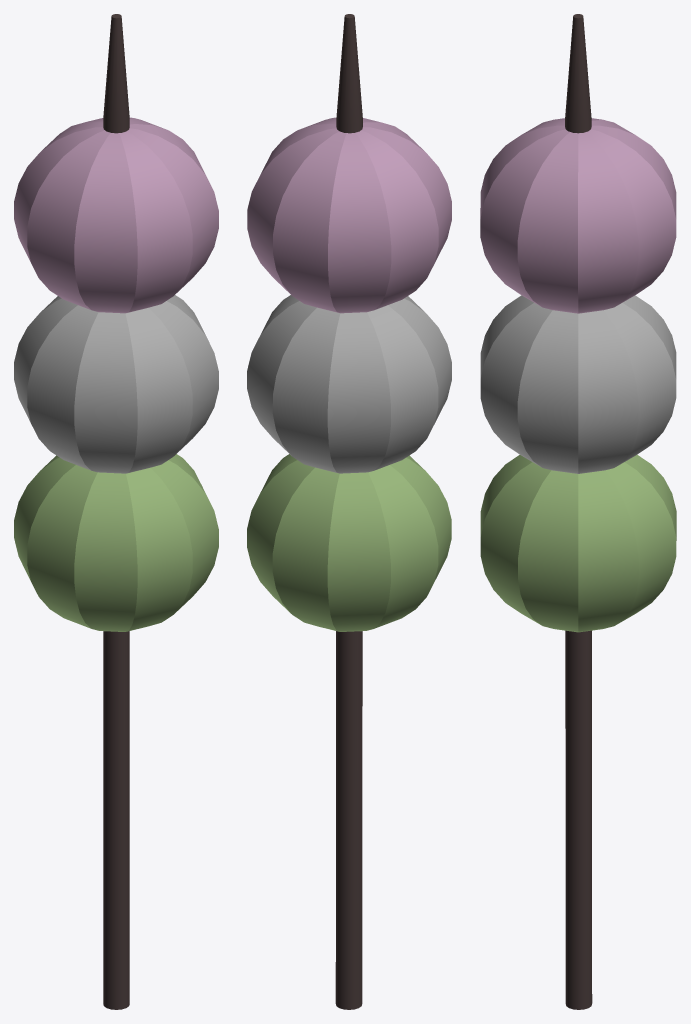
File: dangogo.fbx
The picture shows the model from 3 angles, left to right: view 1: azimuth 30°, elevation 25°; view 2: azimuth 150°, elevation 25°; view 3: azimuth 270°, elevation 25°; orthographic projection.
Parts seen in each view (by area): view 1: pSphere4; view 2: pSphere4; view 3: pSphere4.
Boxes of the visible parts, x1,y1,x2,y2 form: pSphere4: (14,14,218,1009); pSphere4: (247,14,451,1009); pSphere4: (480,14,676,1009).
Size of the model in its own units: 1.99 by 10.54 by 1.9.
